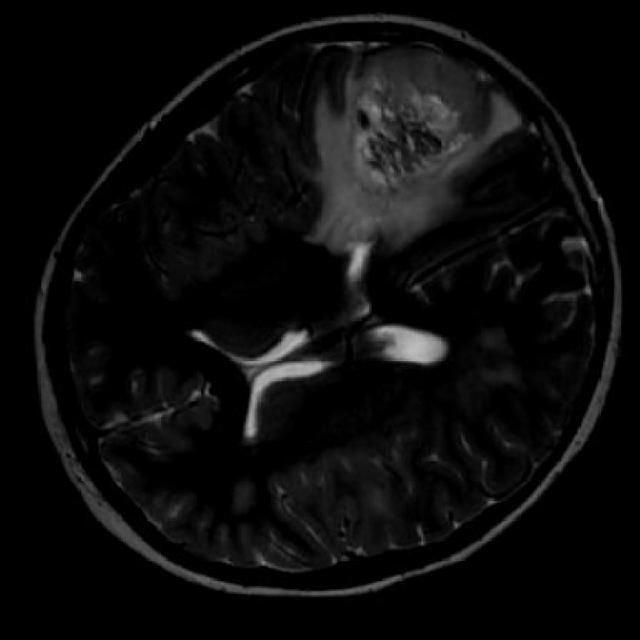Brain-Tumor: (313, 51, 523, 258)
